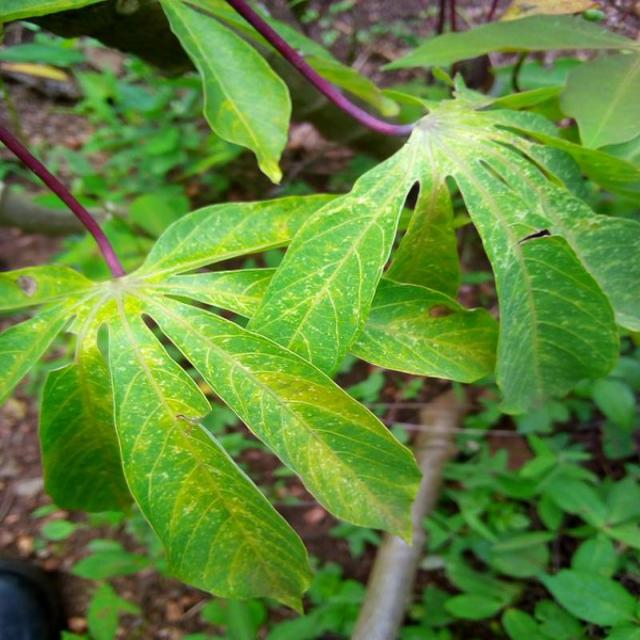cassava leaf: (0, 77, 638, 614), (245, 88, 638, 415), (139, 295, 423, 546), (96, 291, 314, 616), (158, 0, 292, 185)
